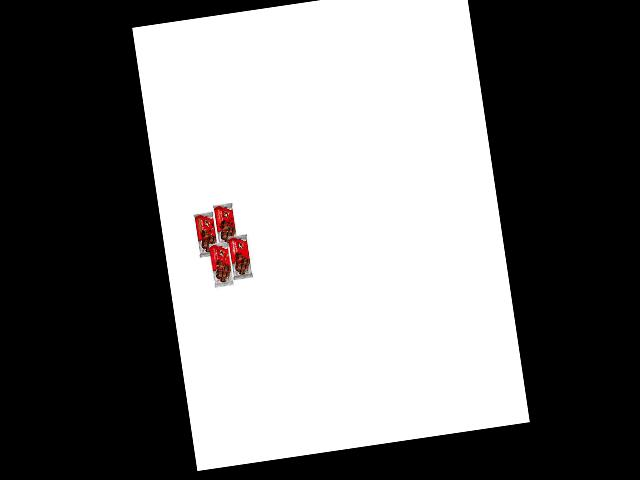chocolate: (190, 207, 223, 260)
